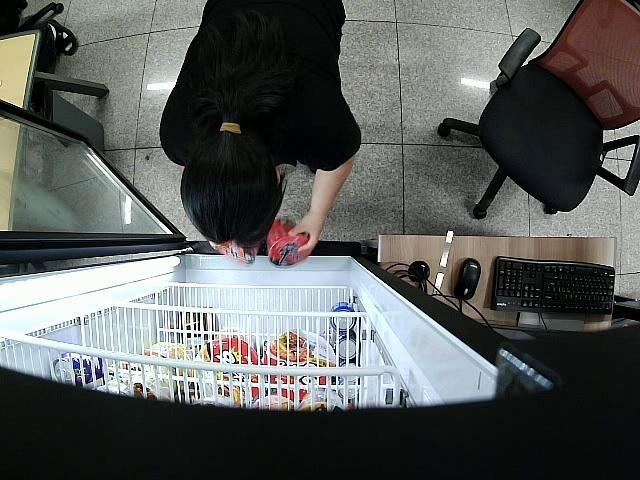01_ShinRamen_L: (264, 219, 311, 269)
